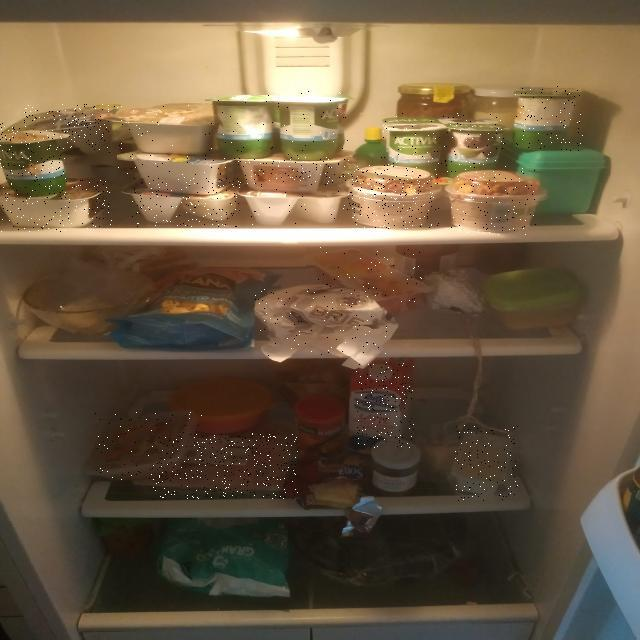bacon: (306, 248, 424, 312)
cheese: (256, 282, 390, 356), (455, 425, 519, 501)
ham: (152, 433, 298, 499)
milk: (356, 362, 414, 448)
tomatoes: (95, 412, 203, 482)
yoghurt: (216, 90, 349, 163), (380, 112, 507, 172), (0, 178, 112, 232), (345, 165, 439, 229), (452, 167, 538, 235), (109, 105, 223, 153), (132, 178, 242, 227), (0, 123, 65, 198), (118, 154, 230, 194), (515, 86, 583, 151), (234, 157, 351, 194), (243, 185, 347, 225), (24, 104, 113, 150)
